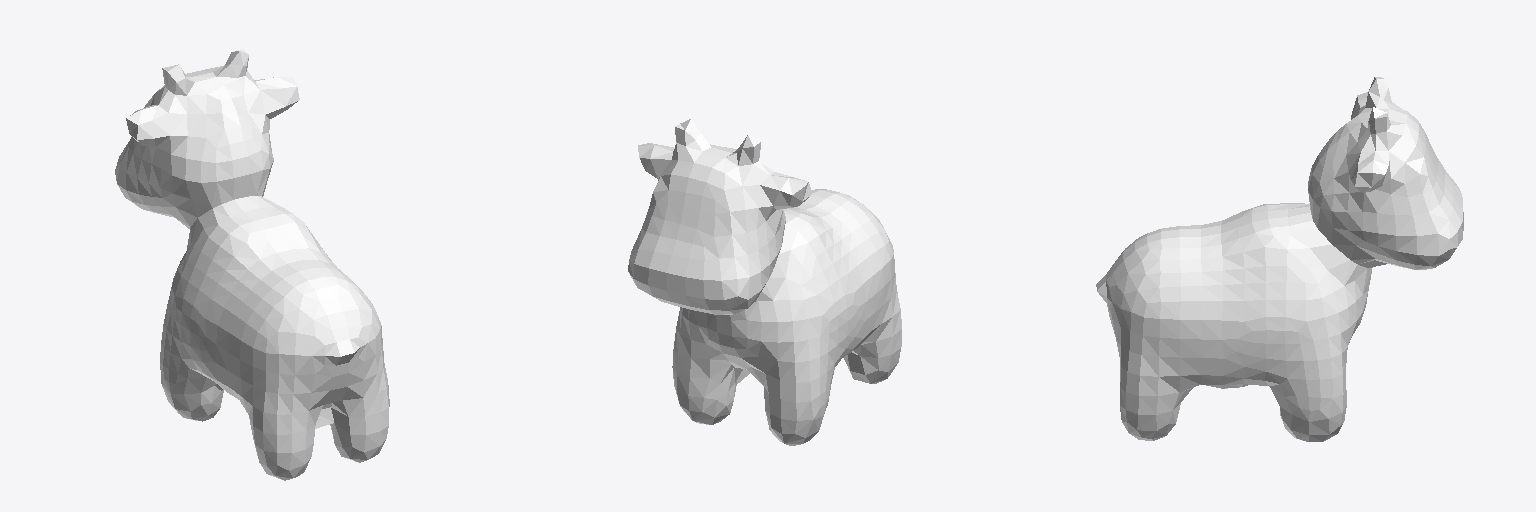
Rendered from spot_remesh.obj.
3 renders of one model, left to right at view 1: azimuth 30°, elevation 25°; view 2: azimuth 150°, elevation 25°; view 3: azimuth 270°, elevation 25°, orthographic.
Parts seen in each view (by area): view 1: spot_triangulated; view 2: spot_triangulated; view 3: spot_triangulated.
Part boxes in pixels (x1,y1,x2,y2): spot_triangulated: (115,49,389,480); spot_triangulated: (628,119,901,445); spot_triangulated: (1096,77,1463,441).
Bounding box in the file's own units: 0.8924 × 1.67 × 1.69.